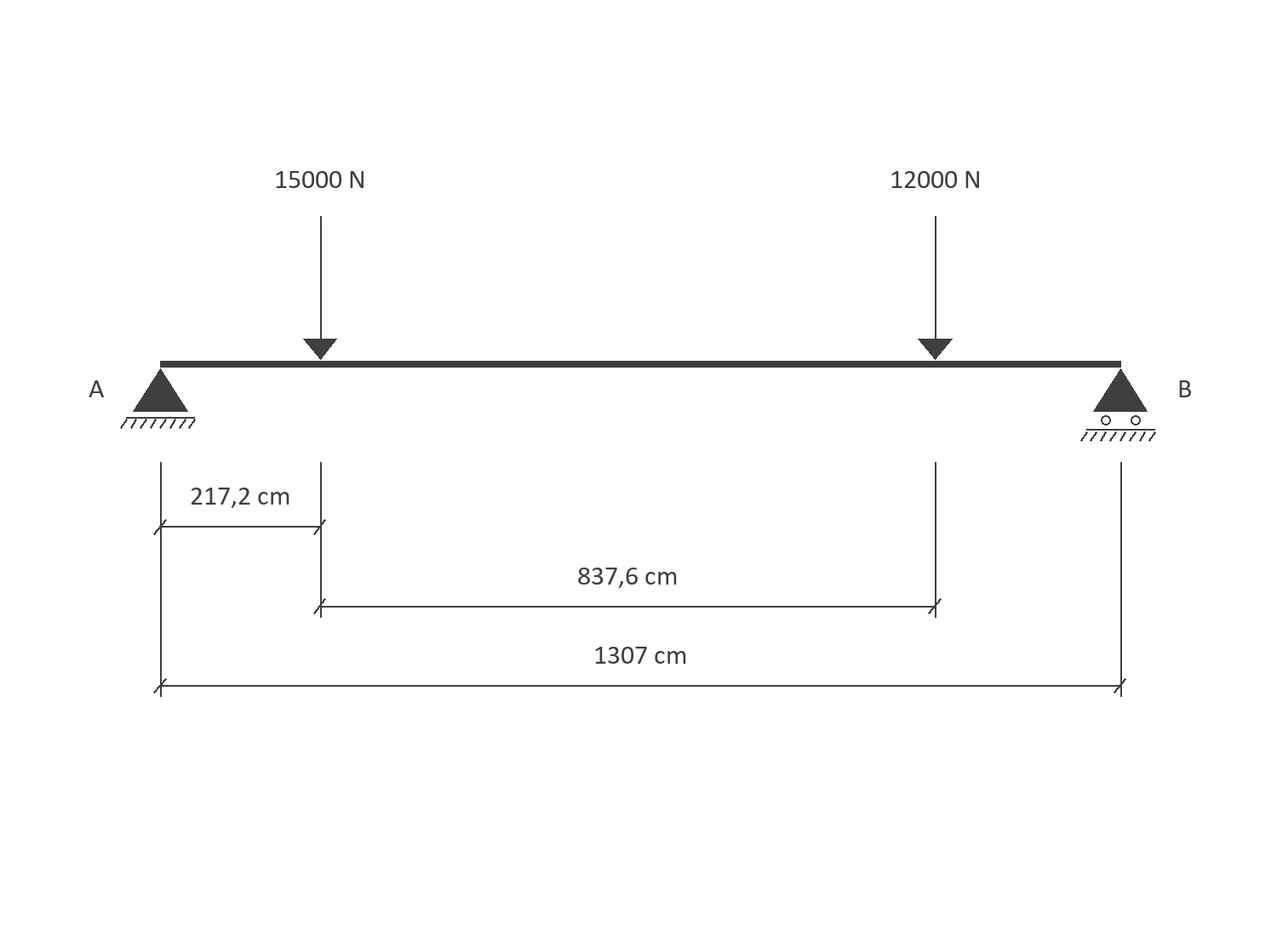pin_support: (120, 368, 196, 429)
point_load: (918, 216, 953, 360), (303, 216, 337, 360)
roller_support: (1080, 368, 1156, 442)
